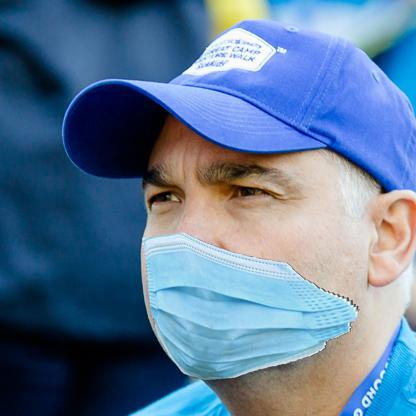mask: (140, 233, 361, 376)
